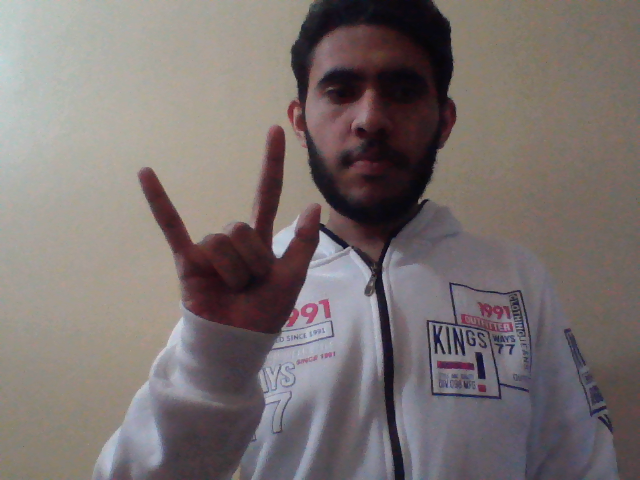iloveyou: (136, 123, 327, 344)
